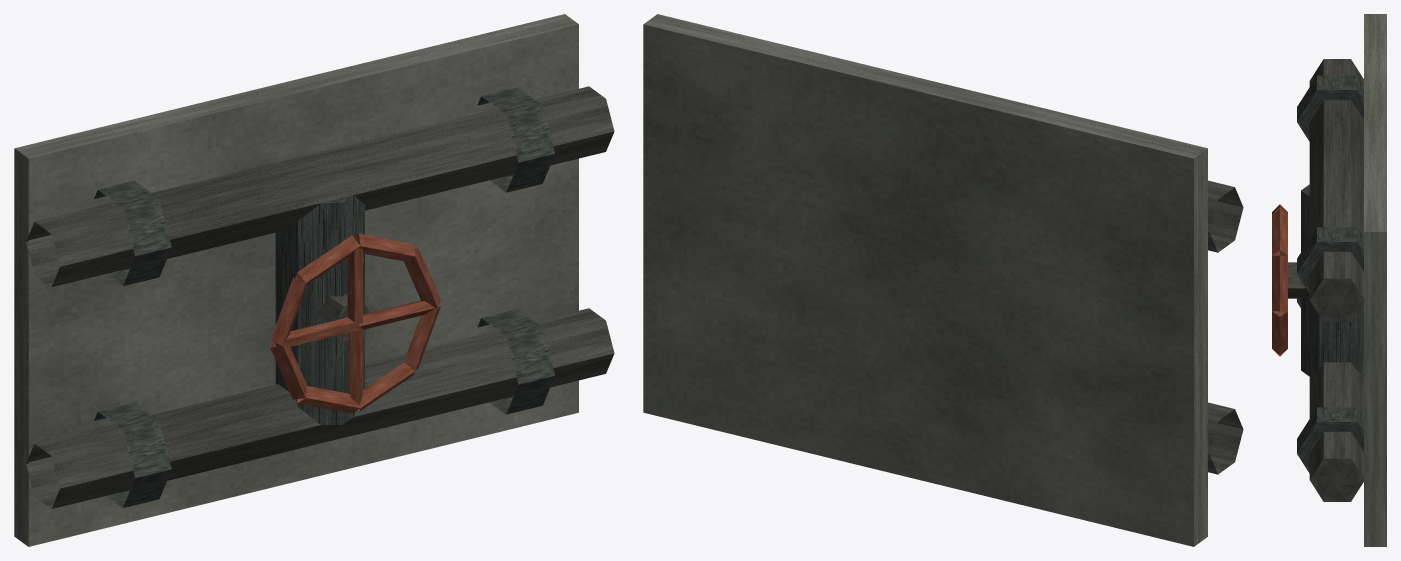
File: g4_valve_lod.gltf
3 views of the same model, side by side, from view 1: azimuth 30°, elevation 25°; view 2: azimuth 150°, elevation 25°; view 3: azimuth 270°, elevation 25° (orthographic). The views are drawn at different scales.
Parts seen in each view (by area): view 1: g4_valve_lod; view 2: g4_valve_lod; view 3: g4_valve_lod.
Boxes of the visible parts, x1=… form: g4_valve_lod: x1=14, y1=14, x2=614, y2=546; g4_valve_lod: x1=643, y1=14, x2=1243, y2=546; g4_valve_lod: x1=1272, y1=14, x2=1386, y2=546.
Size of the model in its own units: 1.36 by 0.91 by 0.301.
Materials: 1 (1 with a texture image).
